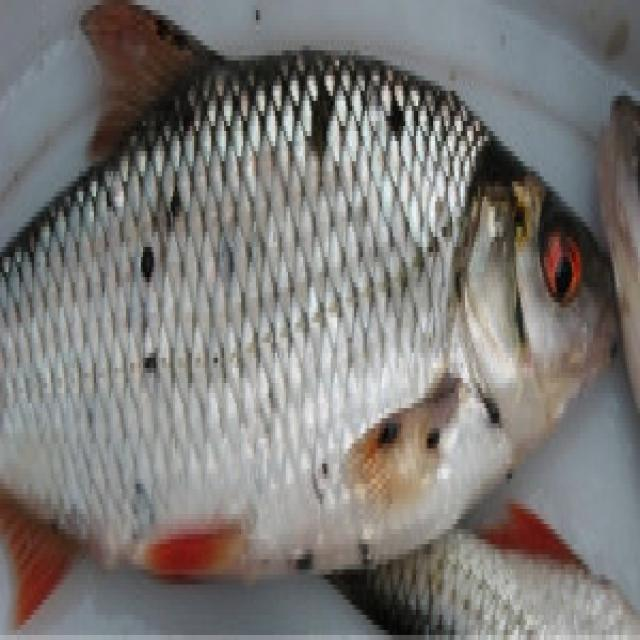EUS Disease: (0, 5, 620, 632), (78, 63, 530, 587)
